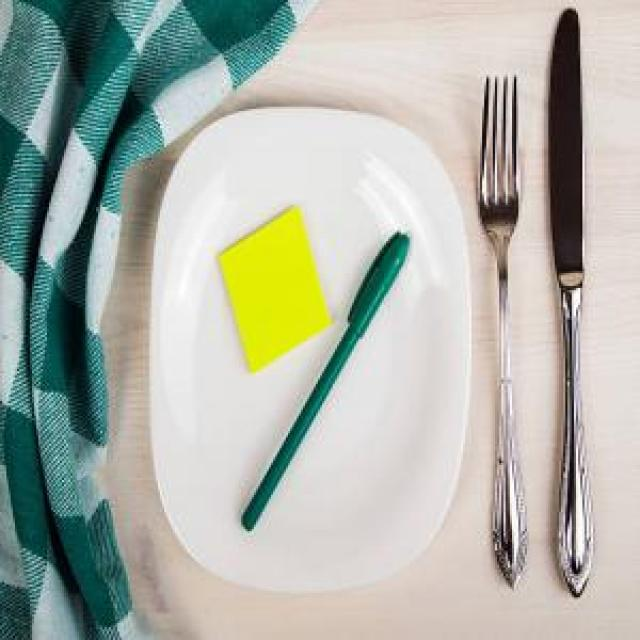knife: (555, 9, 594, 595)
